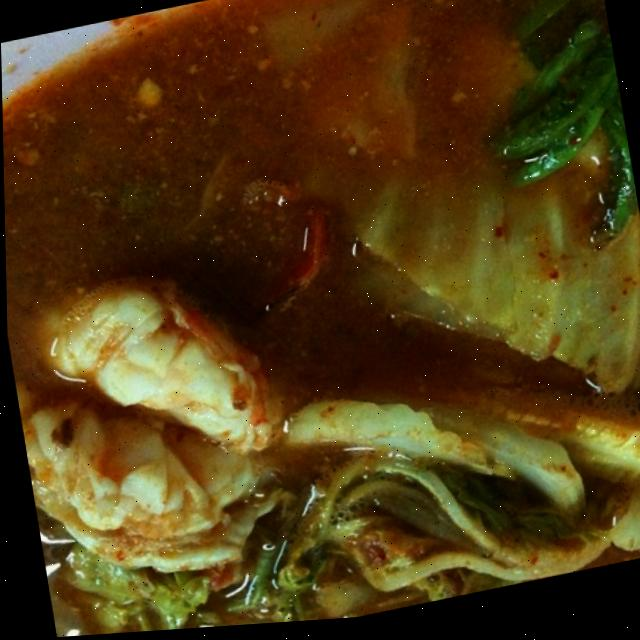汤锅炖物: (1, 29, 640, 640)
